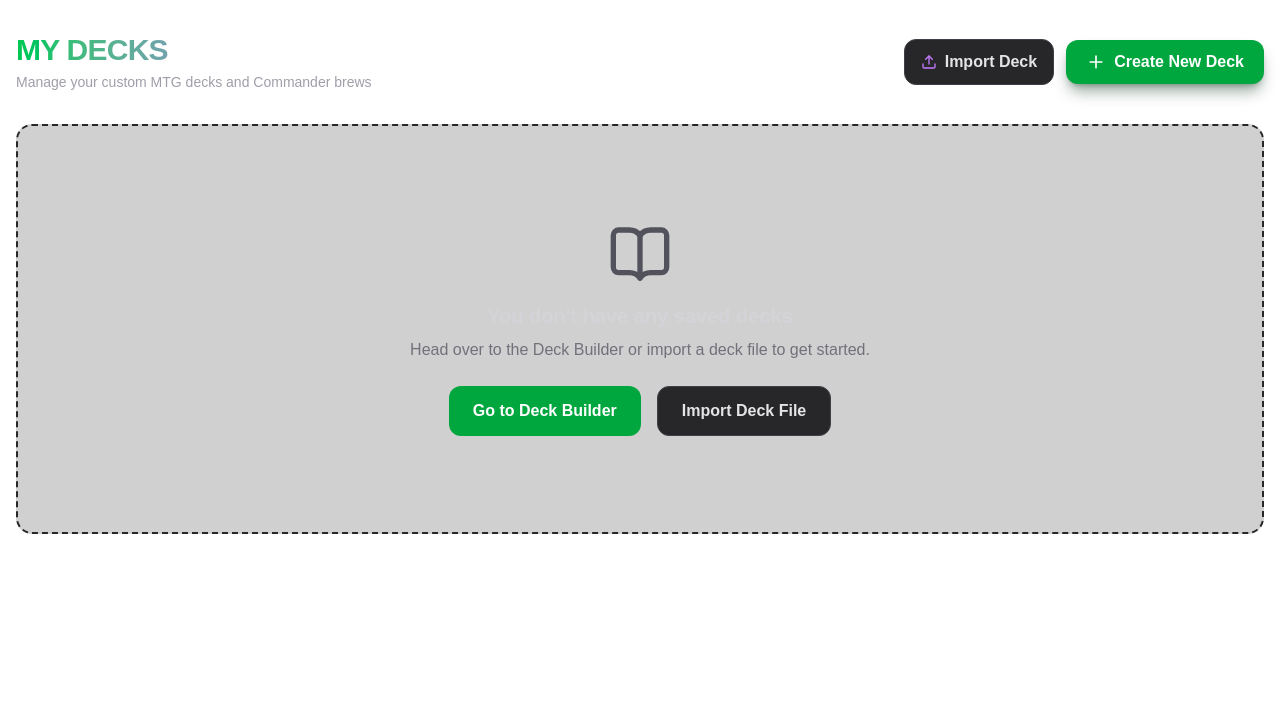
it: DecksListClient Component › Create New Deck Naming Modal › opens naming modal when Go to Deck Builder is clicked in empty state
What coordinates should you click on to do the following:
click the button "Go to Deck Builder"
I would click on:
 (545, 411)
Its box is [449, 386, 641, 436].
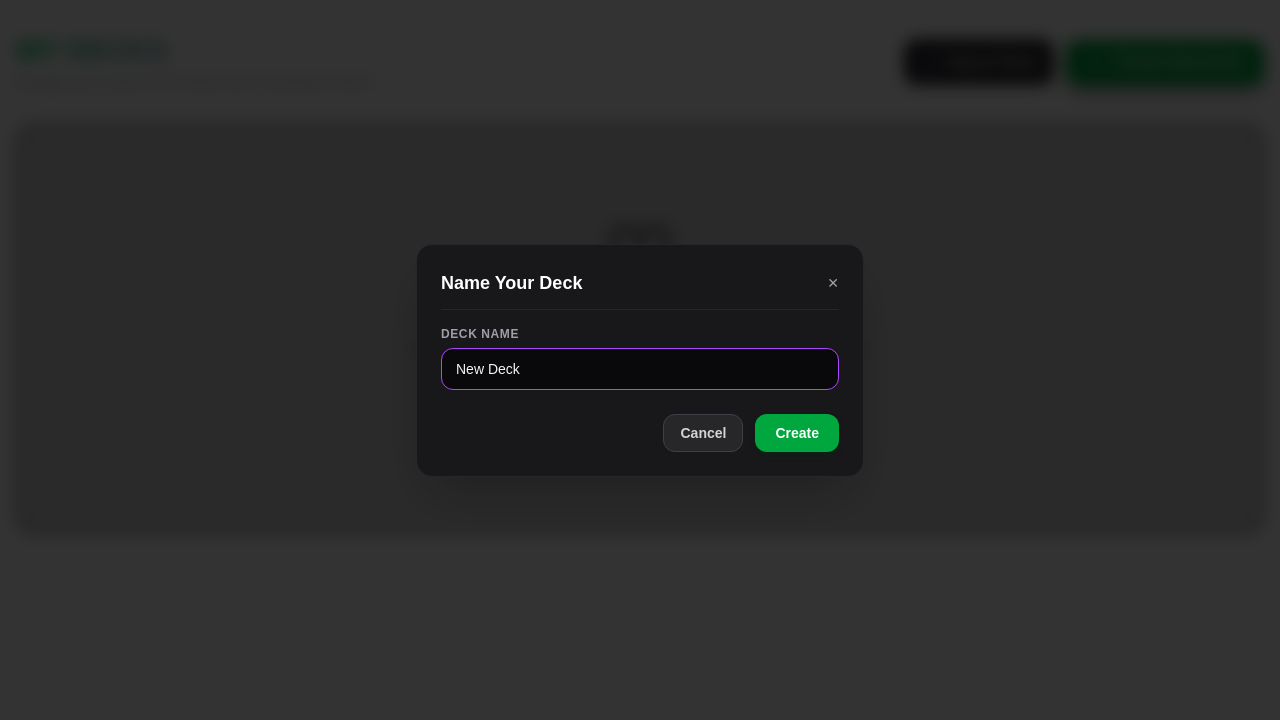
Check: the heading "Name Your Deck" is shown, box [441, 268, 582, 296]
